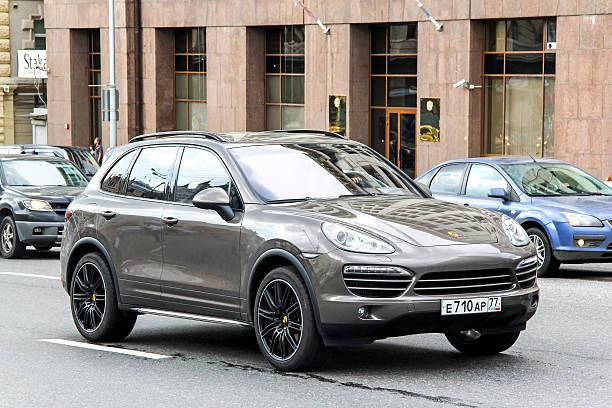porsche: (441, 228, 466, 240)
